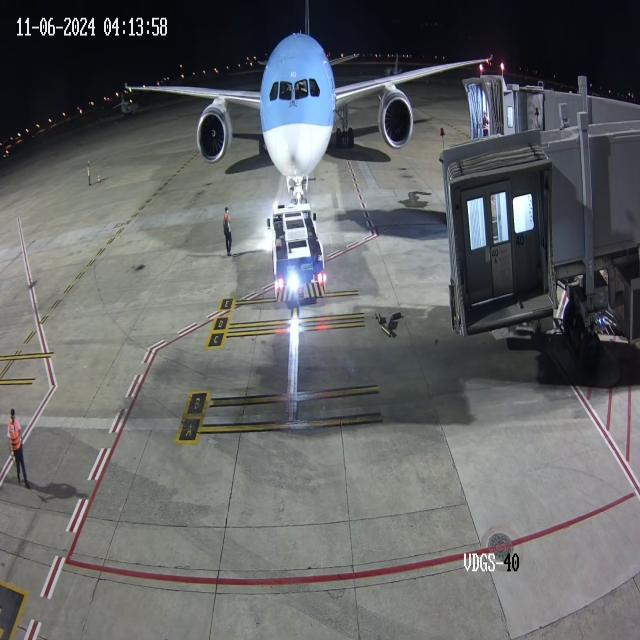bridge: (487, 71, 546, 148)
plane: (109, 12, 437, 203)
window: (264, 70, 328, 111)
